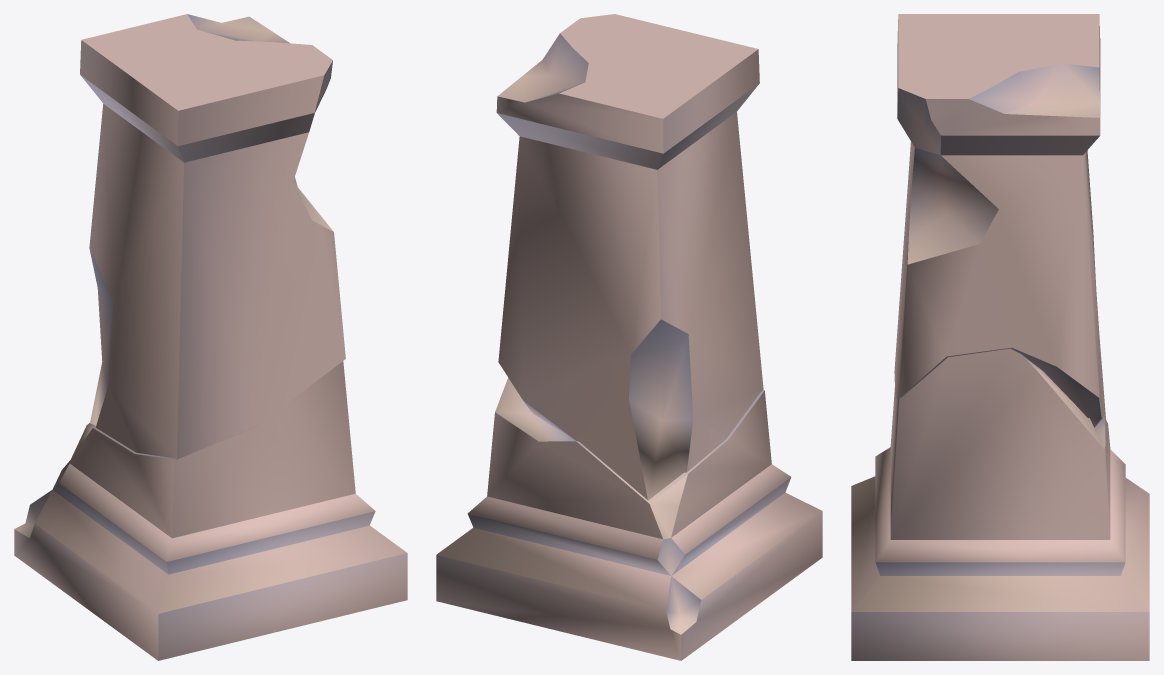
File: SquarePillarFly.gltf
3 renders of one model, left to right at view 1: azimuth 30°, elevation 25°; view 2: azimuth 150°, elevation 25°; view 3: azimuth 270°, elevation 25°, orthographic. The views are drawn at different scales.
Parts seen in each view (by area): view 1: SquarePillarFlyMesh, SquarePillarBaseMesh; view 2: SquarePillarFlyMesh, SquarePillarBaseMesh; view 3: SquarePillarBaseMesh, SquarePillarFlyMesh.
Boxes of the visible parts, box(x1,y1,x2,y2) form: SquarePillarFlyMesh: box(80, 14, 345, 459); SquarePillarBaseMesh: box(14, 361, 407, 660); SquarePillarFlyMesh: box(496, 14, 763, 500); SquarePillarBaseMesh: box(436, 378, 822, 660); SquarePillarBaseMesh: box(851, 348, 1149, 660); SquarePillarFlyMesh: box(894, 14, 1105, 427).
Size of what is drawn, in the model's own units: 2 by 4.01 by 2.
